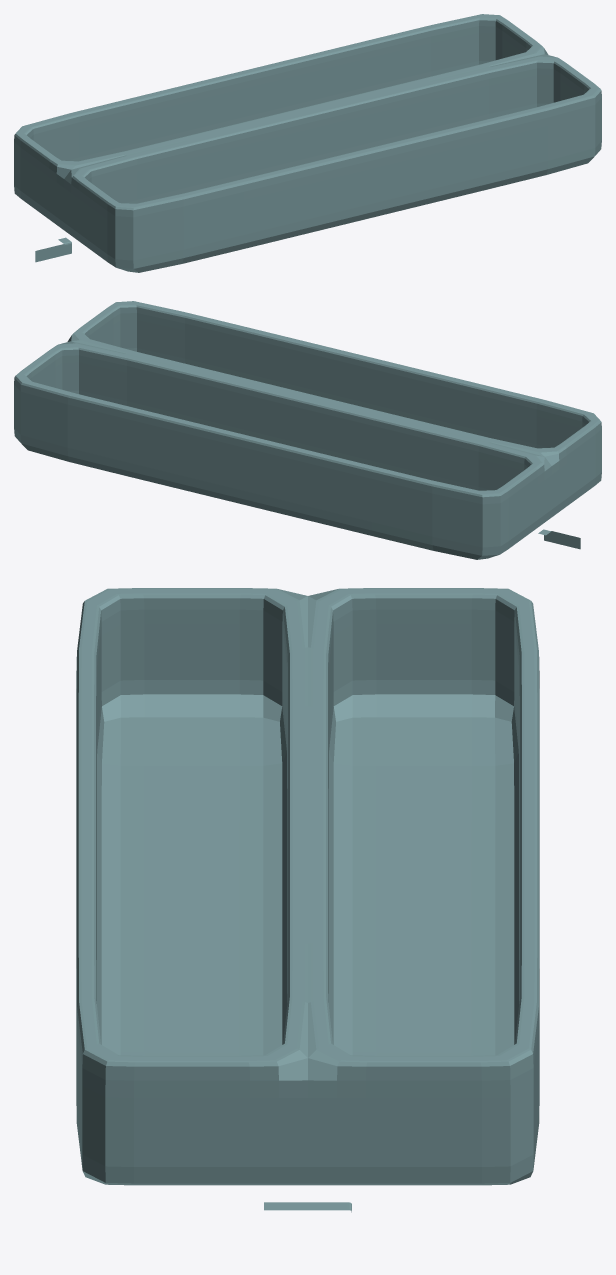
File: water.fbx
The picture shows the model from 3 angles, top to bottom: view 1: azimuth 30°, elevation 25°; view 2: azimuth 150°, elevation 25°; view 3: azimuth 270°, elevation 25°; orthographic projection. The views are drawn at different scales.
Visible parts, largest first — view 1: Cube; view 2: Cube; view 3: Cube.
Boxes of the visible parts, x1=… form: Cube: x1=14, y1=14, x2=601, y2=272; Cube: x1=14, y1=301, x2=601, y2=559; Cube: x1=76, y1=588, x2=539, y2=1212.
Size of the model in its own units: 543 by 80.97 by 200.
